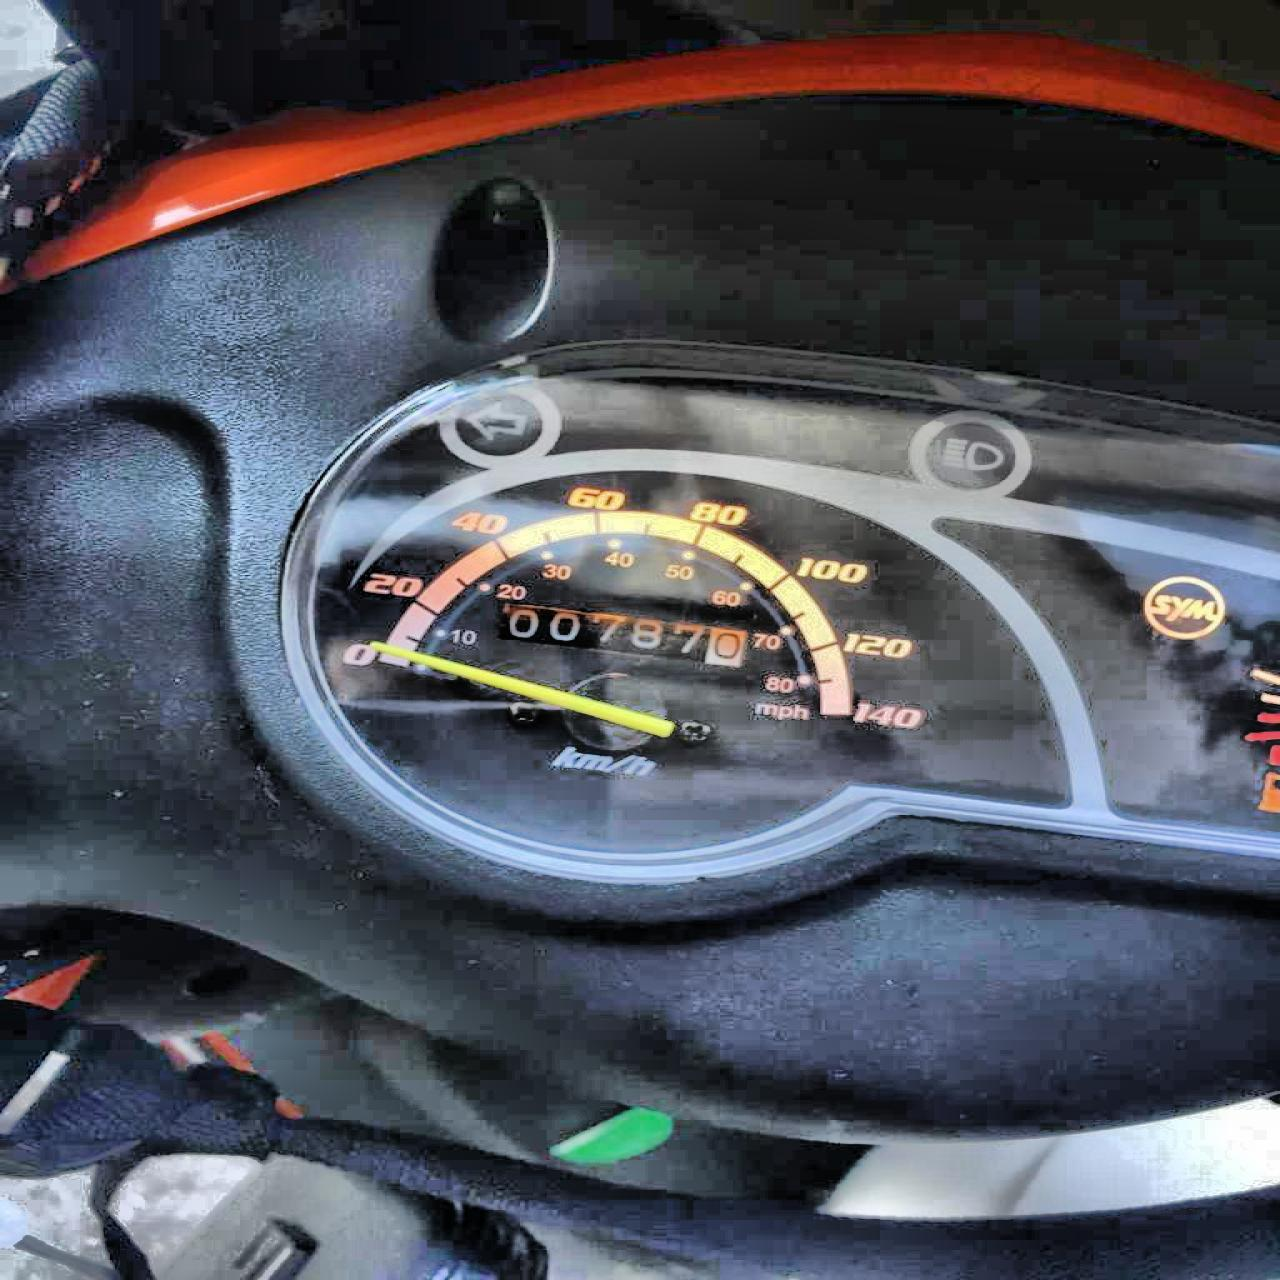0: (505, 606, 540, 639), (546, 608, 580, 641), (708, 629, 740, 659), (724, 595, 738, 606)
7: (588, 612, 627, 642), (668, 620, 703, 652)
8: (629, 615, 663, 649)
odometer: (486, 597, 754, 673)
